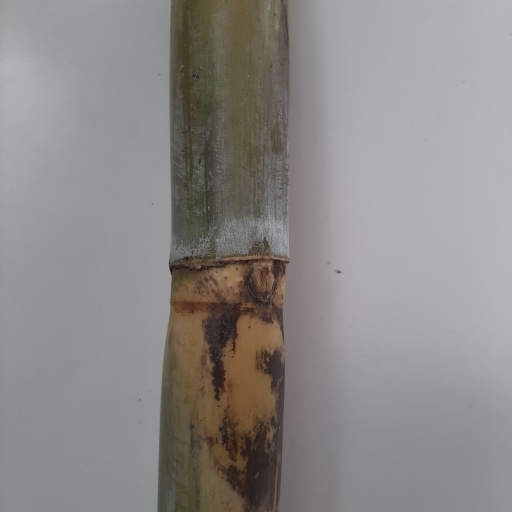Bud: (246, 266, 277, 306)
